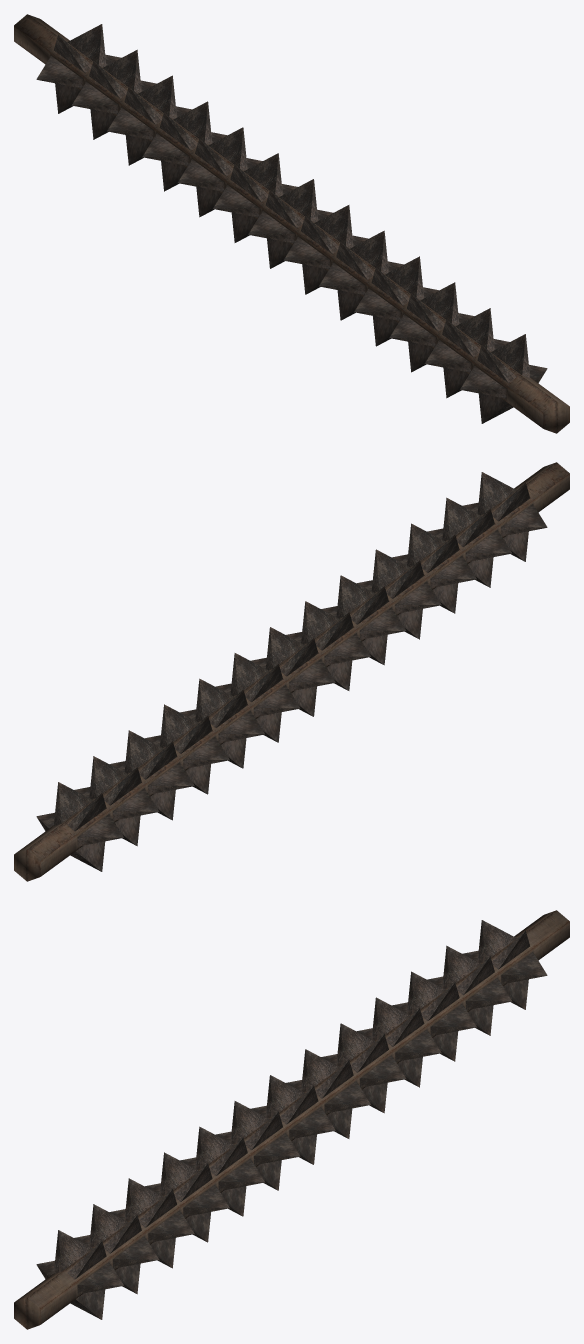
Rendered from Roller.FBX.
3 renders of one model, top to bottom at view 1: azimuth 30°, elevation 25°; view 2: azimuth 150°, elevation 25°; view 3: azimuth 330°, elevation 25°, orthographic.
Parts seen in each view (by area): view 1: Roller; view 2: Roller; view 3: Roller.
Boxes of the visible parts, x1,y1,x2,y2 form: Roller: (14, 14, 569, 433); Roller: (14, 462, 569, 881); Roller: (14, 910, 569, 1329).
Size of the model in its own units: 71.65 by 62.07 by 749.
